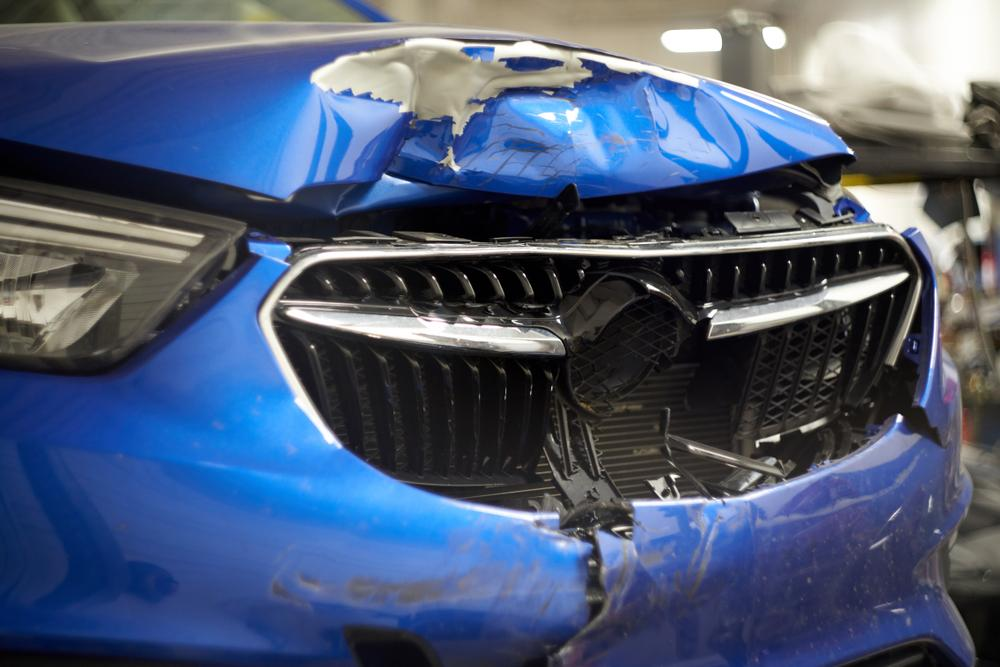crack: (526, 512, 612, 667), (896, 404, 946, 452)
dent: (304, 28, 745, 212)
scratch: (272, 559, 558, 618)
